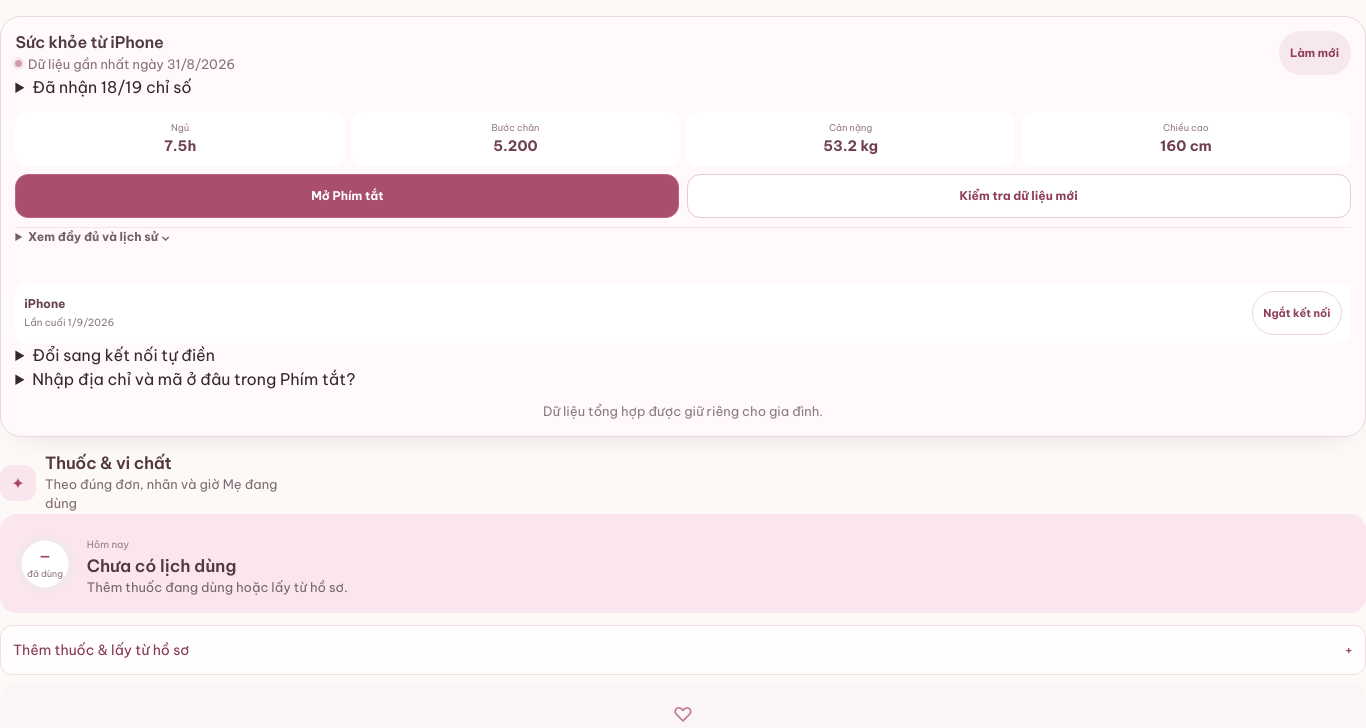
Test: iPhone health connection state › shows all available iPhone health groups with per-metric sync time
Check: the text "160 cm" is shown, box 1160,137 -> 1212,155
Click the heading "Xem đầy đủ và lịch sử ⌄" at (99, 237), box 28,229 -> 170,244
(page scrolled)
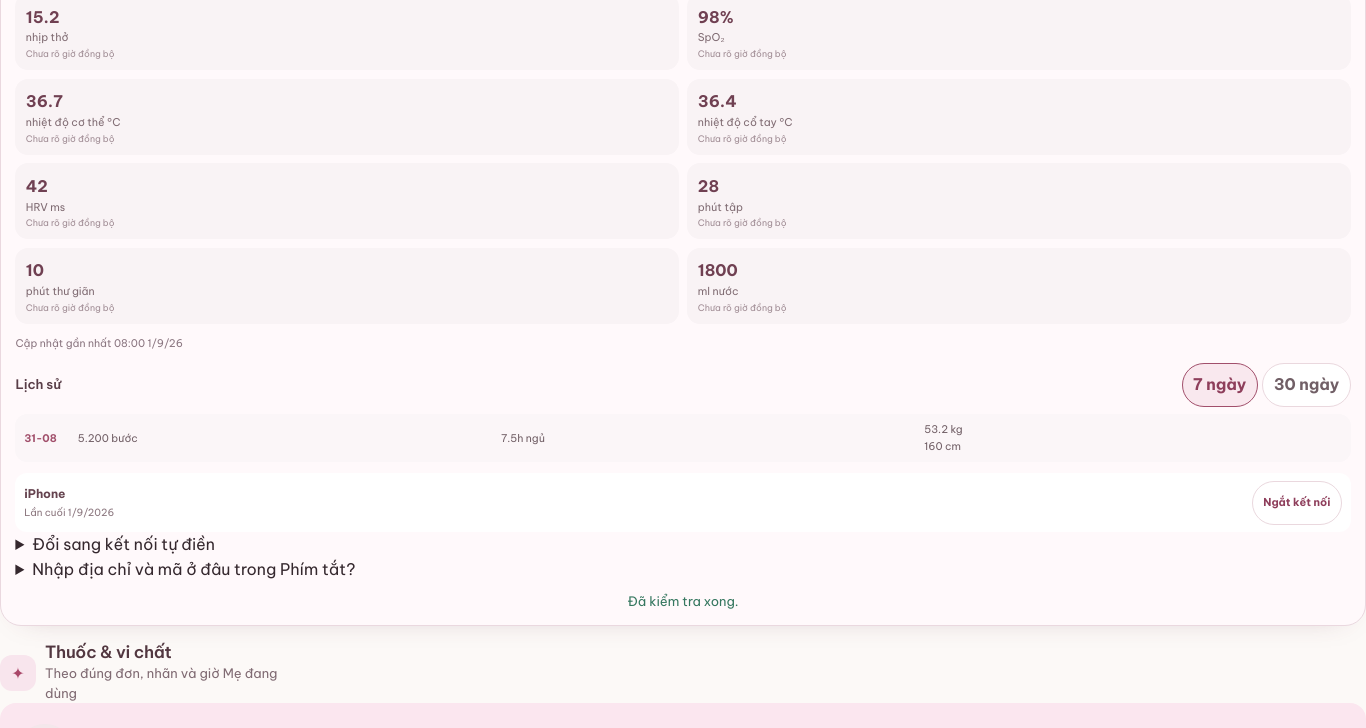
Check: the heading "Lịch sử" is shown, box 15,377 -> 61,393
